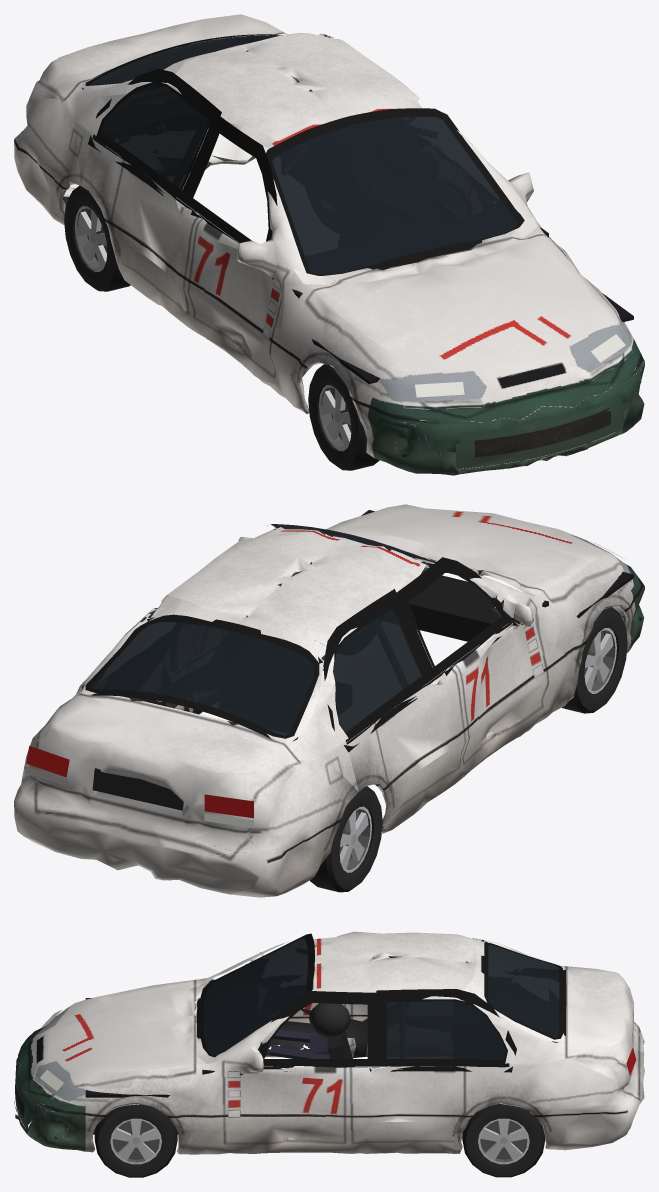
3 views of the same model, one above another, from view 1: azimuth 30°, elevation 25°; view 2: azimuth 150°, elevation 25°; view 3: azimuth 270°, elevation 25° (orthographic). The views are drawn at different scales.
Parts seen in each view (by area): view 1: body, wheel_fr, wheel_rr; view 2: body, wheel_rr, wheel_fr; view 3: body, wheel_fl, wheel_rl.
Boxes of the visible parts, x1,y1,x2,y2 form: body: (14,14,644,475); wheel_fr: (308,364,379,470); wheel_rr: (64,185,130,291); body: (14,504,644,897); wheel_rr: (310,786,382,892); wheel_fr: (562,607,627,713); body: (14,931,644,1154); wheel_fl: (94,1104,177,1177); wheel_rl: (462,1104,545,1177).
Size of the model in its own units: 1.83 by 1.37 by 4.5.
2 materials, 1 textured.
